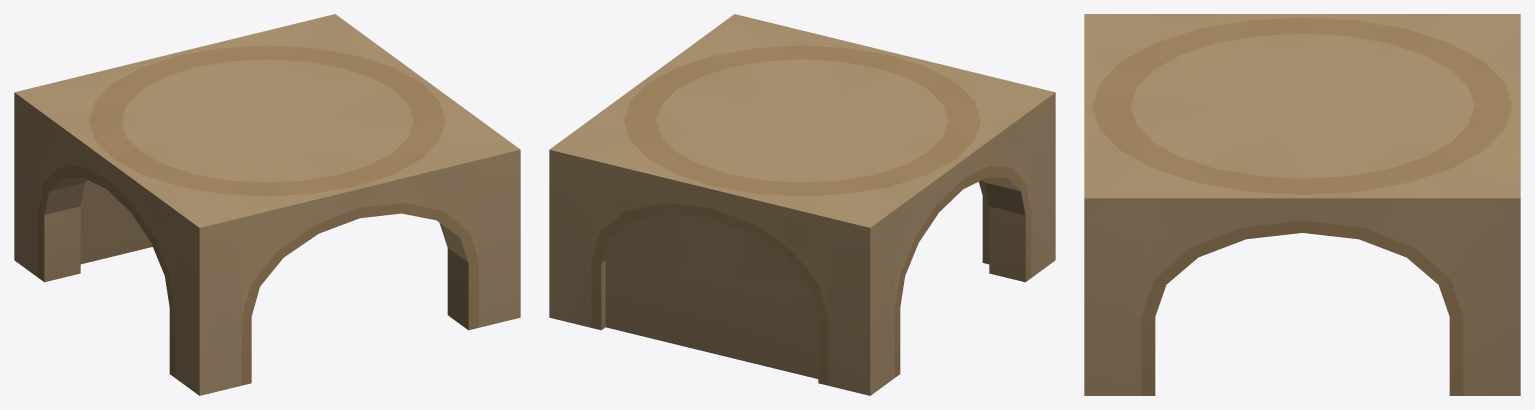
File: dome.arch_3way.sandstone.glb
The picture shows the model from 3 angles, left to right: view 1: azimuth 30°, elevation 25°; view 2: azimuth 150°, elevation 25°; view 3: azimuth 270°, elevation 25°; orthographic projection. The views are drawn at different scales.
Visible parts, largest first — view 1: dome_arch_3way_sandstone; view 2: dome_arch_3way_sandstone; view 3: dome_arch_3way_sandstone.
Boxes of the visible parts, x1=… form: dome_arch_3way_sandstone: x1=14, y1=14, x2=520, y2=395; dome_arch_3way_sandstone: x1=549, y1=14, x2=1055, y2=395; dome_arch_3way_sandstone: x1=1084, y1=14, x2=1520, y2=395.
Size of what is drawn, in the model's own units: 8 by 4 by 8.
